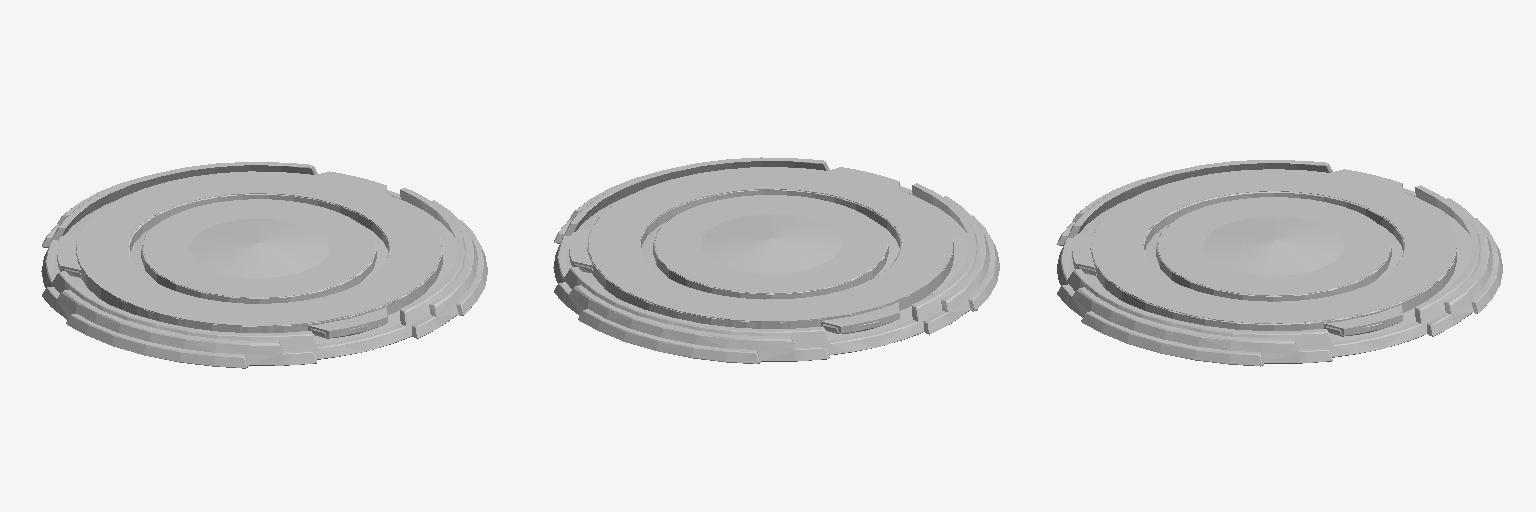
File: pad.obj
3 renders of one model, left to right at view 1: azimuth 30°, elevation 25°; view 2: azimuth 150°, elevation 25°; view 3: azimuth 270°, elevation 25°, orthographic.
Parts seen in each view (by area): view 1: Object.1; view 2: Object.1; view 3: Object.1.
Boxes of the visible parts, <box> form: Object.1: <box>41,162,487,368</box>; Object.1: <box>553,157,999,363</box>; Object.1: <box>1057,160,1502,366</box>.
Bounding box in the file's own units: 1 × 0.0743 × 0.9723.